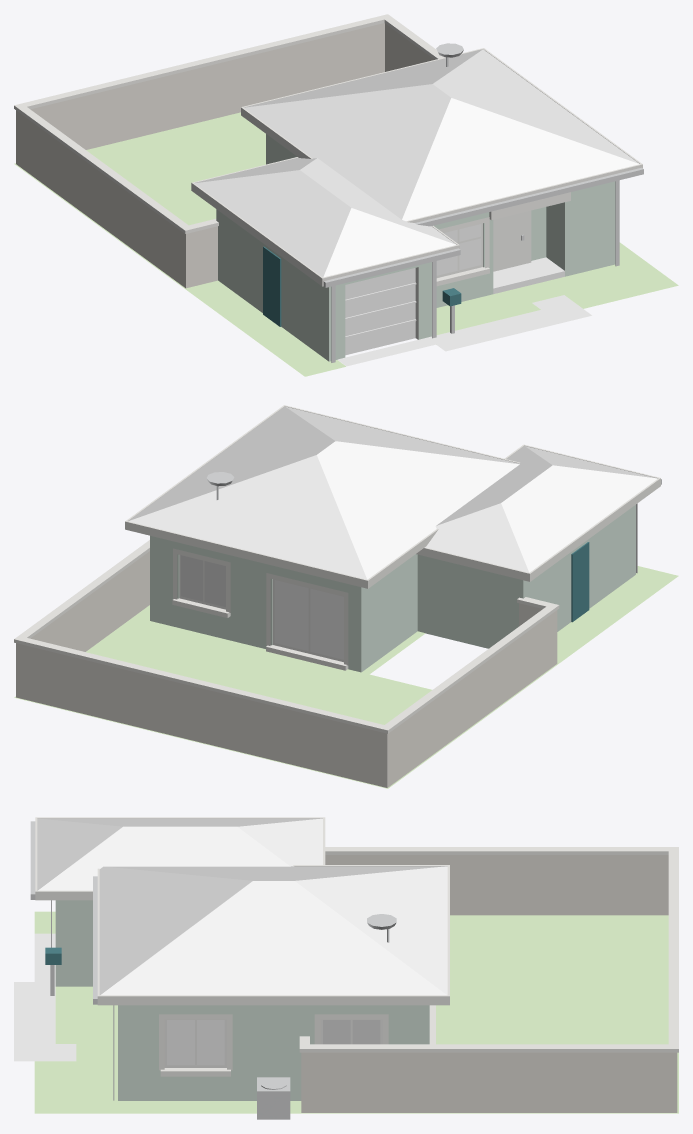
Rendered from house_spanish46.glb.
The picture shows the model from 3 angles, top to bottom: view 1: azimuth 30°, elevation 25°; view 2: azimuth 150°, elevation 25°; view 3: azimuth 270°, elevation 25°; orthographic projection. The views are drawn at different scales.
Parts seen in each view (by area): view 1: house_spanish46_Roof, house_spanish46_Walls2, house_spanish46_Lawn, house_spanish46_Walls, house_spanish46_Trim, house_spanish46_Site, house_spanish46_Doors, house_spanish46_Details, house_spanish46_Frames, house_spanish46_Accent, house_spanish46_Glass; view 2: house_spanish46_Roof, house_spanish46_Walls2, house_spanish46_Walls, house_spanish46_Lawn, house_spanish46_Trim, house_spanish46_Glass, house_spanish46_WindowsLit, house_spanish46_Accent, house_spanish46_Frames; view 3: house_spanish46_Roof, house_spanish46_Lawn, house_spanish46_Walls2, house_spanish46_Walls, house_spanish46_Trim, house_spanish46_Site, house_spanish46_Details, house_spanish46_Glass, house_spanish46_WindowsLit, house_spanish46_Frames.
Part boxes in pixels (<box>): house_spanish46_Roof: <box>194,49,639,277</box>; house_spanish46_Walls2: <box>16,23,434,288</box>; house_spanish46_Lawn: <box>14,112,678,376</box>; house_spanish46_Walls: <box>216,134,615,361</box>; house_spanish46_Trim: <box>14,14,642,339</box>; house_spanish46_Site: <box>337,257,591,366</box>; house_spanish46_Doors: <box>345,268,416,355</box>; house_spanish46_Details: <box>323,43,643,362</box>; house_spanish46_Frames: <box>436,210,531,277</box>; house_spanish46_Accent: <box>263,246,461,326</box>; house_spanish46_Glass: <box>436,224,481,275</box>; house_spanish46_Roof: <box>128,406,657,579</box>; house_spanish46_Walls2: <box>16,551,557,787</box>; house_spanish46_Walls: <box>150,505,635,672</box>; house_spanish46_Lawn: <box>14,566,678,788</box>; house_spanish46_Trim: <box>14,405,660,733</box>; house_spanish46_Glass: <box>274,580,343,659</box>; house_spanish46_WindowsLit: <box>181,555,225,606</box>; house_spanish46_Accent: <box>571,542,589,622</box>; house_spanish46_Frames: <box>179,554,343,662</box>; house_spanish46_Roof: <box>37,818,447,995</box>; house_spanish46_Lawn: <box>34,911,678,1113</box>; house_spanish46_Walls2: <box>301,855,677,1112</box>; house_spanish46_Walls: <box>55,900,429,1100</box>; house_spanish46_Trim: <box>35,817,678,1076</box>; house_spanish46_Site: <box>14,933,76,1061</box>; house_spanish46_Details: <box>30,821,396,1119</box>; house_spanish46_Glass: <box>167,1020,224,1065</box>; house_spanish46_WindowsLit: <box>323,1020,380,1044</box>; house_spanish46_Frames: <box>164,1019,382,1067</box>.
Size of the model in its own units: 47.32 by 17.33 by 64.
